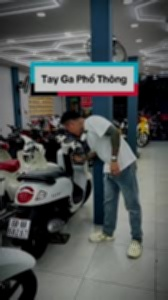Bien-so: (4, 225, 30, 249)
